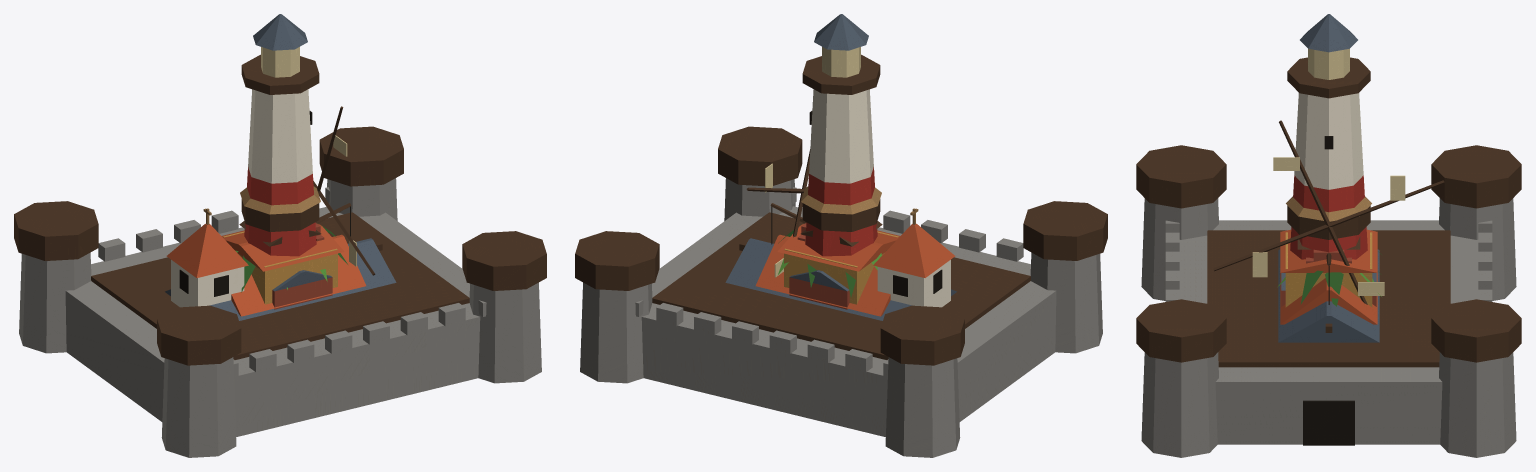
File: world.glb
The picture shows the model from 3 angles, left to right: view 1: azimuth 30°, elevation 25°; view 2: azimuth 150°, elevation 25°; view 3: azimuth 270°, elevation 25°; orthographic projection. The views are drawn at different scales.
Visible parts, largest first — view 1: Fort_LOD0, Lighthouse_LOD0, Church_LOD0, Windmill_LOD0, Warehouse_LOD0, HouseDutch_LOD0; view 2: Fort_LOD0, Lighthouse_LOD0, Church_LOD0, Windmill_LOD0, Warehouse_LOD0, HouseDutch_LOD0; view 3: Fort_LOD0, Lighthouse_LOD0, Windmill_LOD0, Warehouse_LOD0, Church_LOD0, PalmA_LOD0, HouseDutch_LOD0.
Boxes of the visible parts, bbox=[...] form: Fort_LOD0: bbox=[14, 126, 546, 457]; Lighthouse_LOD0: bbox=[241, 14, 319, 256]; Church_LOD0: bbox=[166, 208, 366, 316]; Windmill_LOD0: bbox=[240, 106, 375, 275]; Warehouse_LOD0: bbox=[165, 238, 396, 320]; HouseDutch_LOD0: bbox=[272, 223, 332, 309]; Fort_LOD0: bbox=[575, 126, 1107, 457]; Lighthouse_LOD0: bbox=[802, 14, 880, 256]; Church_LOD0: bbox=[755, 208, 955, 316]; Windmill_LOD0: bbox=[746, 149, 881, 277]; Warehouse_LOD0: bbox=[725, 238, 956, 320]; HouseDutch_LOD0: bbox=[789, 223, 849, 309]; Fort_LOD0: bbox=[1136, 145, 1521, 457]; Lighthouse_LOD0: bbox=[1287, 14, 1370, 259]; Windmill_LOD0: bbox=[1213, 120, 1444, 304]; Warehouse_LOD0: bbox=[1278, 249, 1379, 342]; Church_LOD0: bbox=[1280, 273, 1377, 324]; PalmA_LOD0: bbox=[1277, 270, 1381, 306]; HouseDutch_LOD0: bbox=[1281, 249, 1376, 306].
Size of what is drawn, in the model's own units: 26.2 by 23.7 by 22.2.
1 material, 1 textured.
